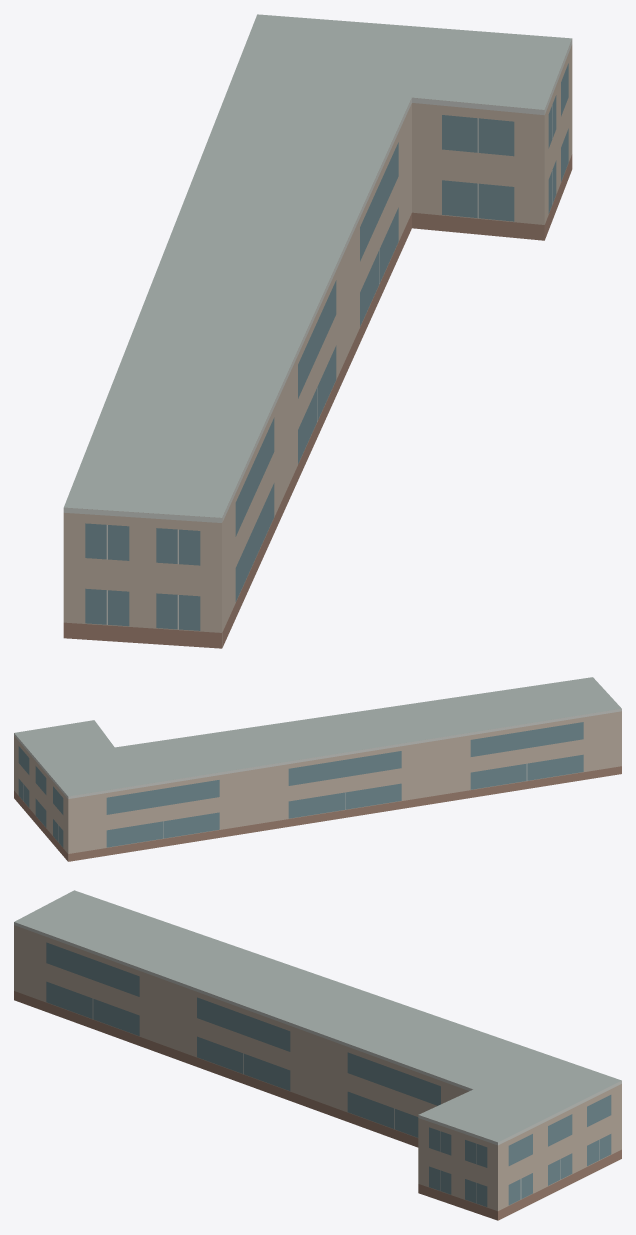
Rendered from survey-upis-32783879.glb.
3 renders of one model, top to bottom at view 1: azimuth 30°, elevation 25°; view 2: azimuth 150°, elevation 25°; view 3: azimuth 270°, elevation 25°, orthographic. The views are drawn at different scales.
Parts seen in each view (by area): view 1: survey-upis-32783879.tmp; view 2: survey-upis-32783879.tmp; view 3: survey-upis-32783879.tmp.
Part boxes in pixels (x1,y1,x2,y2): survey-upis-32783879.tmp: [63, 14, 572, 648]; survey-upis-32783879.tmp: [14, 677, 621, 861]; survey-upis-32783879.tmp: [14, 890, 621, 1220].
Bounding box in the file's own units: 42.13 × 6.1 × 42.93.
